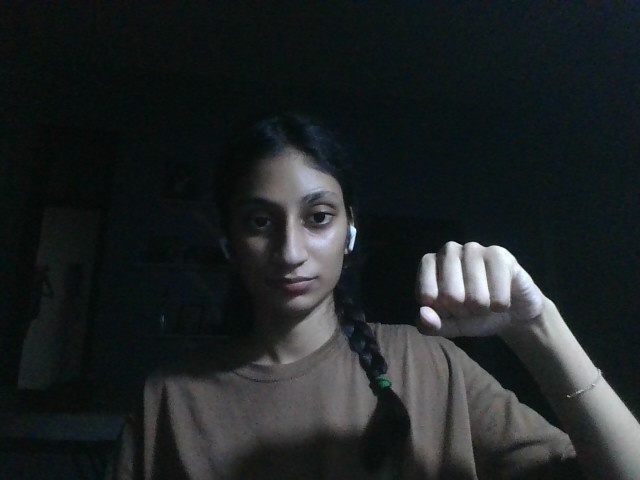yes: (416, 240, 552, 346)
